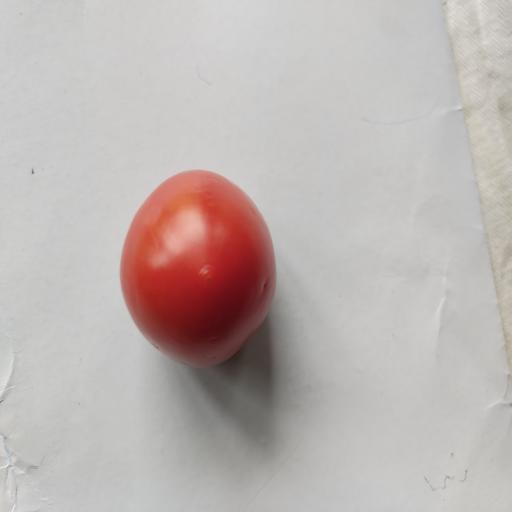ripe: (121, 170, 276, 367)
